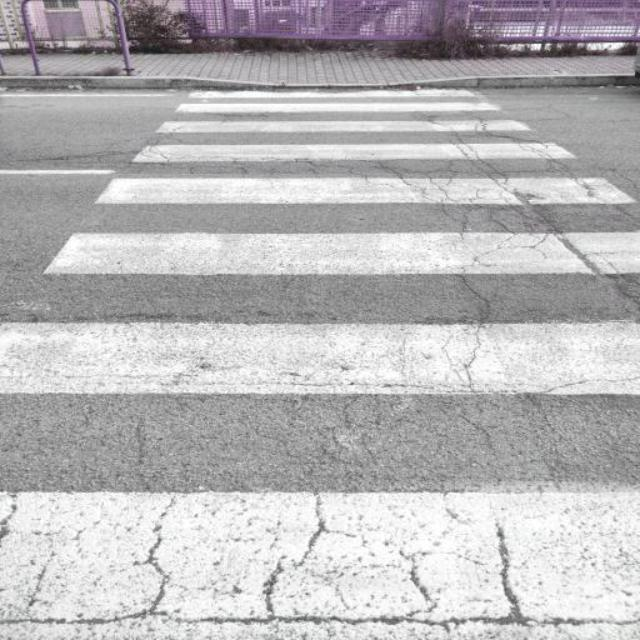sidewalk: (0, 84, 640, 640)
